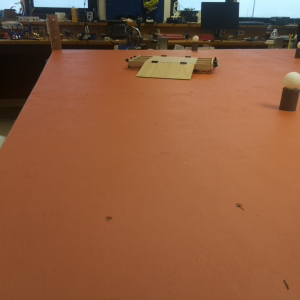corner: (46, 15, 63, 52)
obstacle: (280, 70, 299, 113), (293, 41, 300, 63), (192, 36, 199, 51)
side: (125, 51, 153, 71), (197, 56, 220, 76)
slope: (134, 64, 196, 78)
